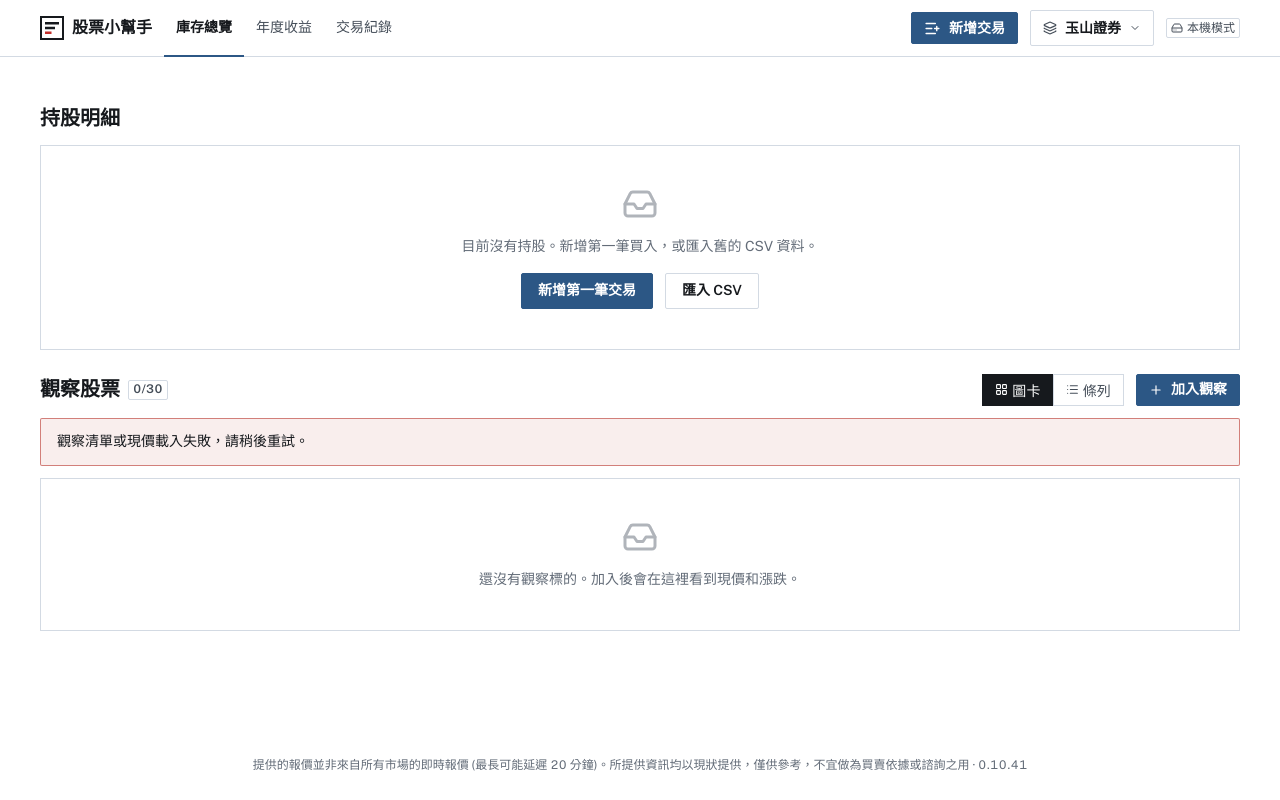
Test case: TransactionForm 折扣怎麼退不影響帶入的費率 › monthly：都帶入折扣後的費率
Check: the button "本機模式" is shown, box [1166,18,1240,38]
Click the button "交易紀錄".
click(364, 28)  # box [324,0,404,57]
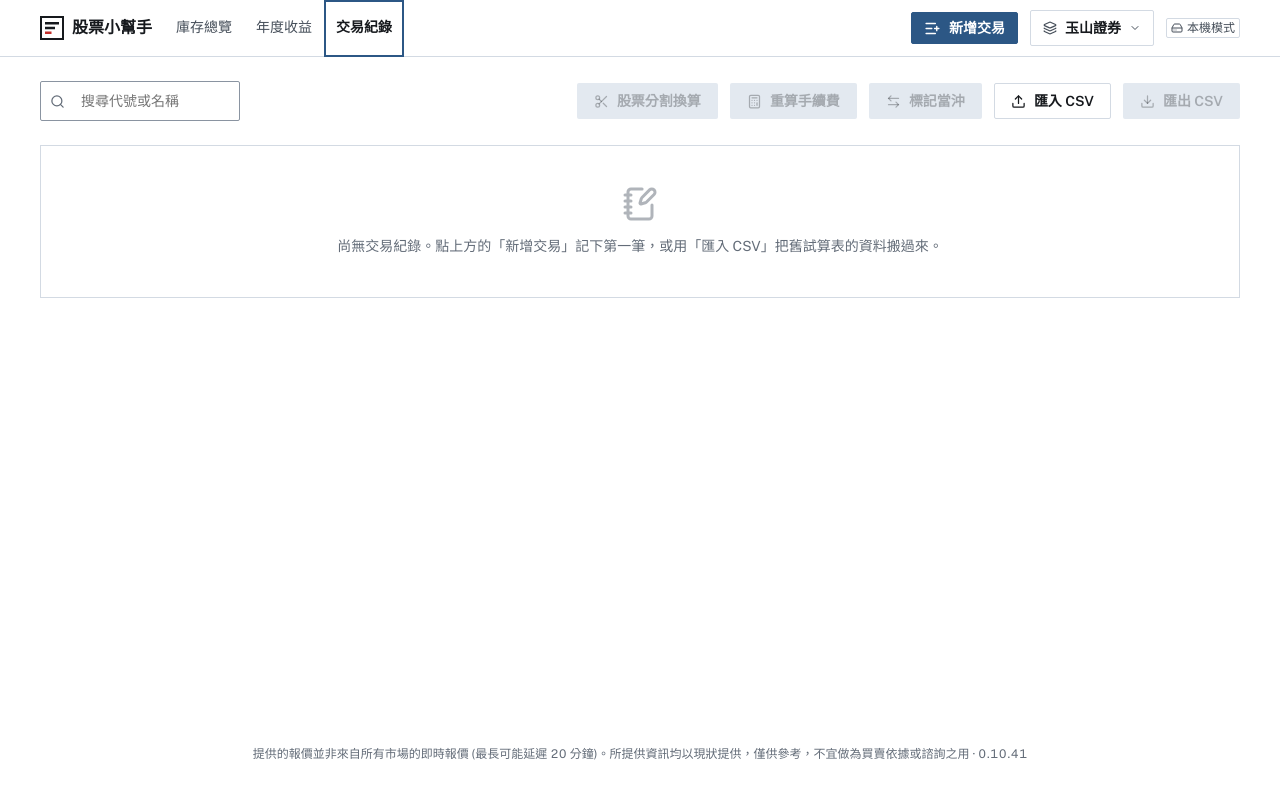
Click the button "新增交易".
click(964, 28)  # box [911,12,1018,44]
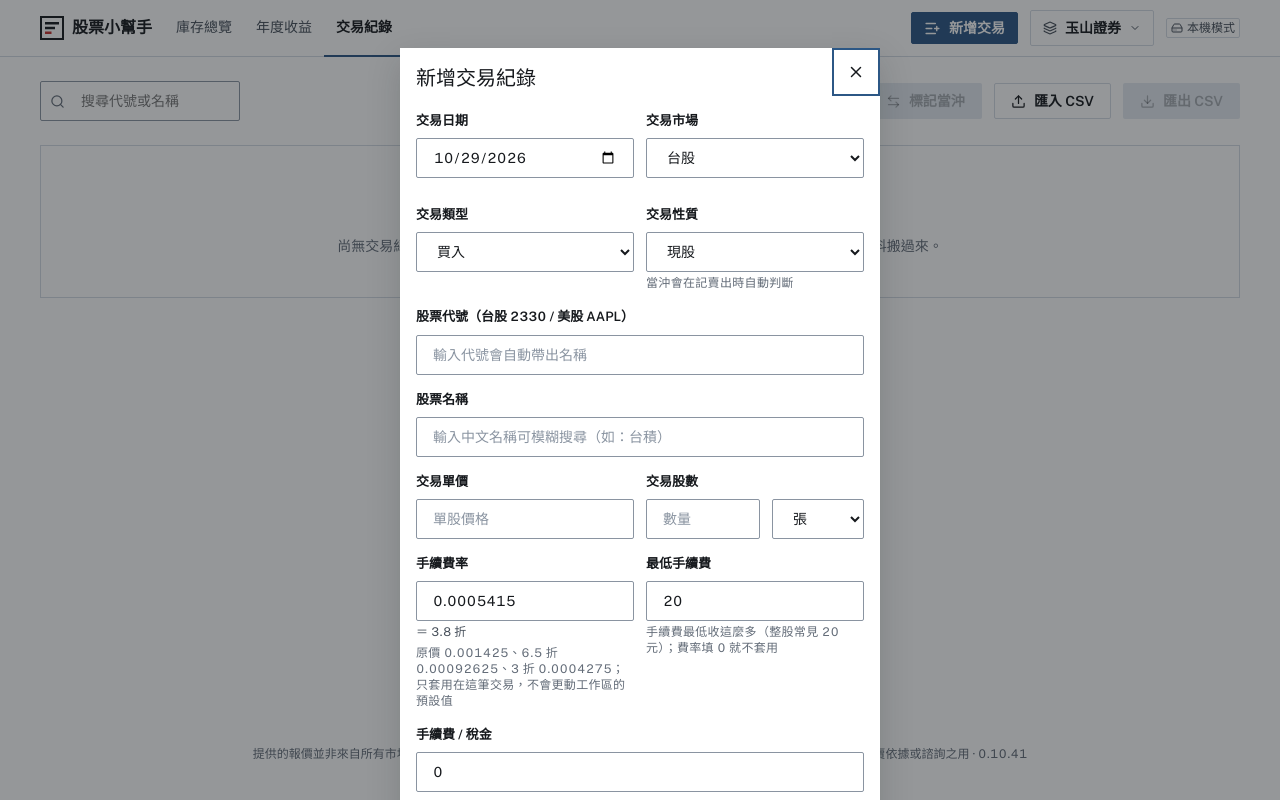
Check: the number field labelled "手續費率" holds "0.0005415", box [416,581,634,621]
